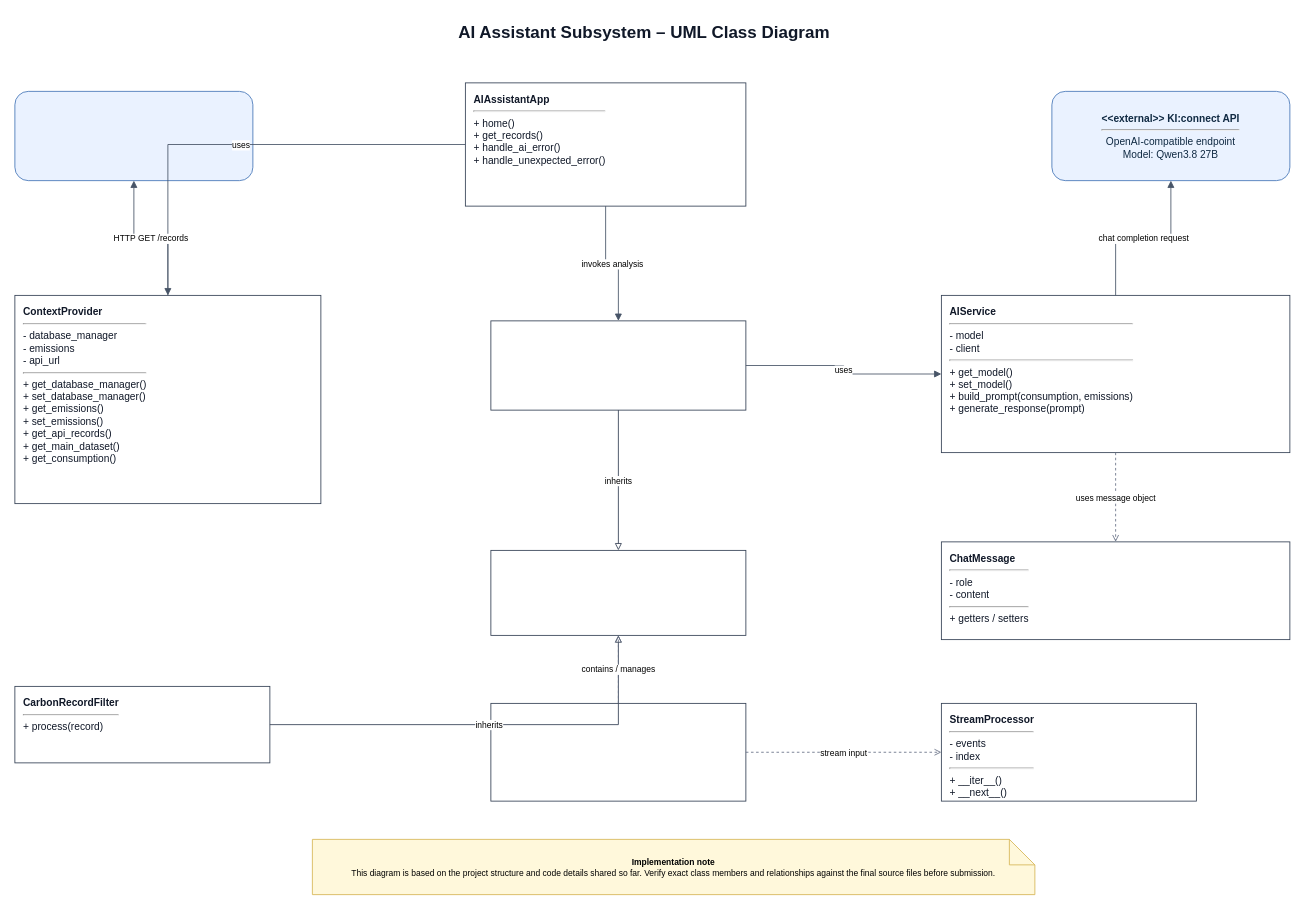
The diagram is 1305 pixels wide and 910 high, and some of its shapes have lost their labels. Here are the shapes that lost their labels. From the top down, the box of each, then its label:
(14, 91, 253, 181): <<external>> DataManagementAPI GET /records Flask API – port 5050
(490, 320, 746, 410): InsightProcessor - ai_service + process(record)
(490, 550, 746, 635): <<abstract>> AssistantProcessor + process(record) {abstract}
(490, 703, 746, 801): Pipeline - processors + add_processor(processor) + process(record)
